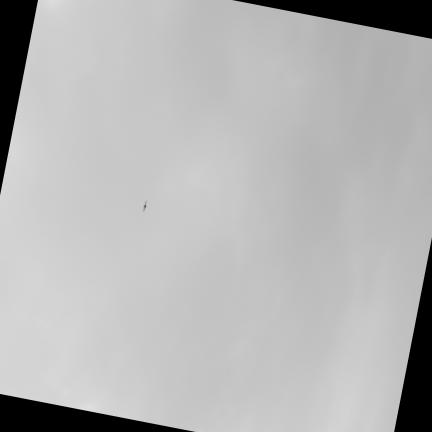Shahed: (143, 200, 146, 211)
